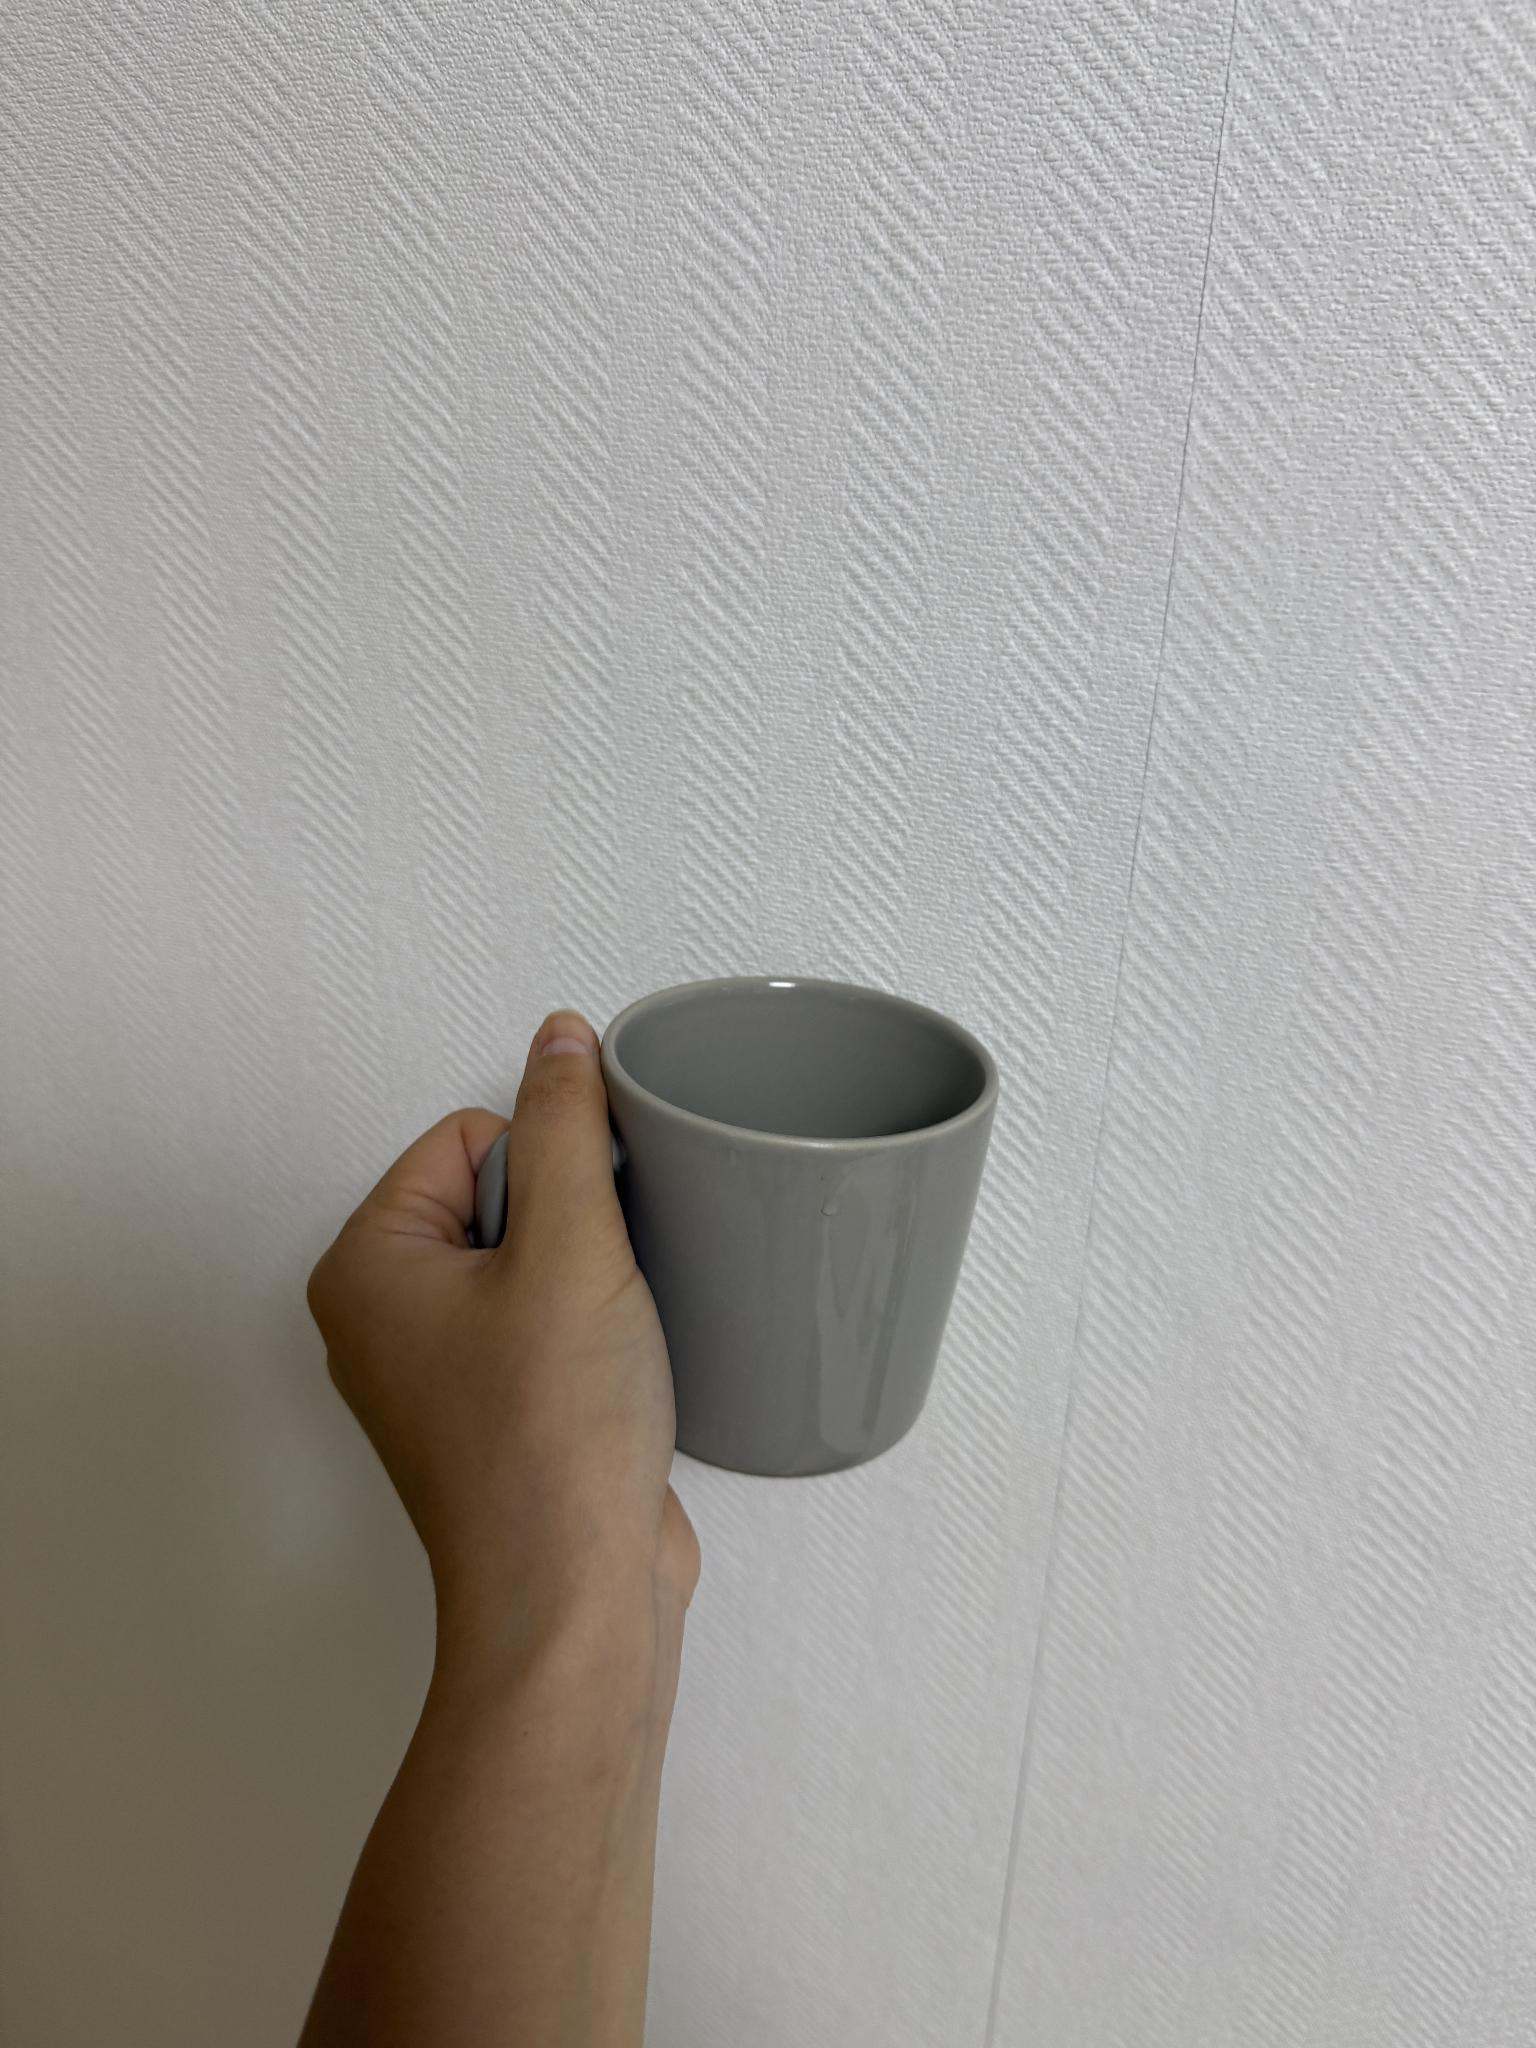cup: (305, 965, 1011, 1701)
